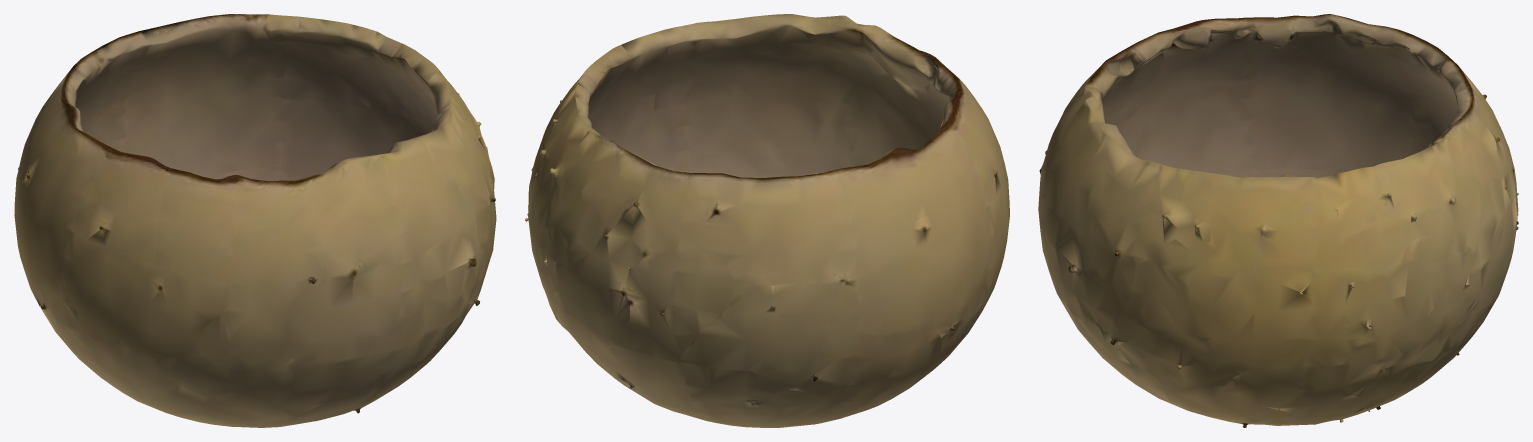
File: jicara.glb
The picture shows the model from 3 angles, left to right: view 1: azimuth 30°, elevation 25°; view 2: azimuth 150°, elevation 25°; view 3: azimuth 270°, elevation 25°; orthographic projection.
Visible parts, largest first — view 1: tripo_node_71f21819-6e21-4765-ad0a-d2b023eacb39; view 2: tripo_node_71f21819-6e21-4765-ad0a-d2b023eacb39; view 3: tripo_node_71f21819-6e21-4765-ad0a-d2b023eacb39.
Part boxes in pixels (x1,y1,x2,y2): tripo_node_71f21819-6e21-4765-ad0a-d2b023eacb39: [14, 14, 496, 427]; tripo_node_71f21819-6e21-4765-ad0a-d2b023eacb39: [525, 14, 1009, 427]; tripo_node_71f21819-6e21-4765-ad0a-d2b023eacb39: [1038, 14, 1518, 427].
Size of the model in its own units: 0.9963 by 0.6824 by 0.9961.
Materials: 1 (1 with a texture image).
